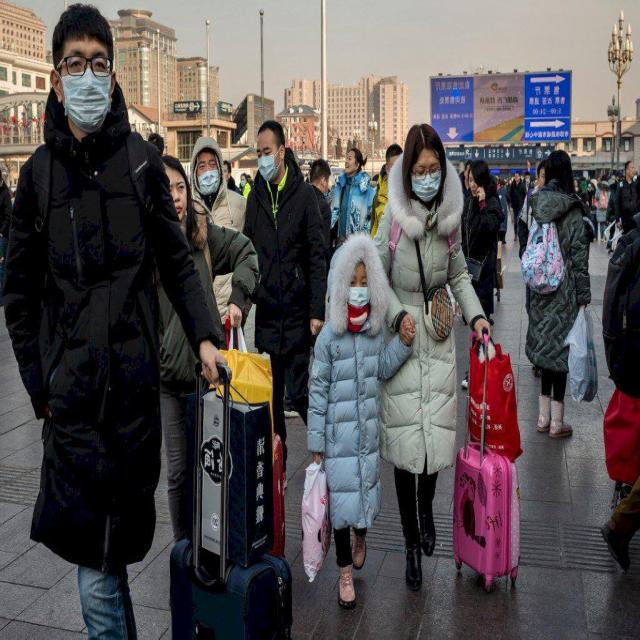face: (59, 27, 114, 133), (412, 148, 442, 205), (257, 131, 283, 183), (346, 268, 375, 310), (194, 153, 220, 196), (167, 170, 187, 220), (384, 150, 400, 178), (469, 170, 484, 198), (345, 152, 361, 176), (539, 169, 549, 189), (322, 175, 330, 199), (627, 165, 634, 178), (464, 165, 470, 180), (224, 167, 230, 180), (241, 175, 246, 187), (515, 173, 519, 182), (525, 176, 529, 183)
